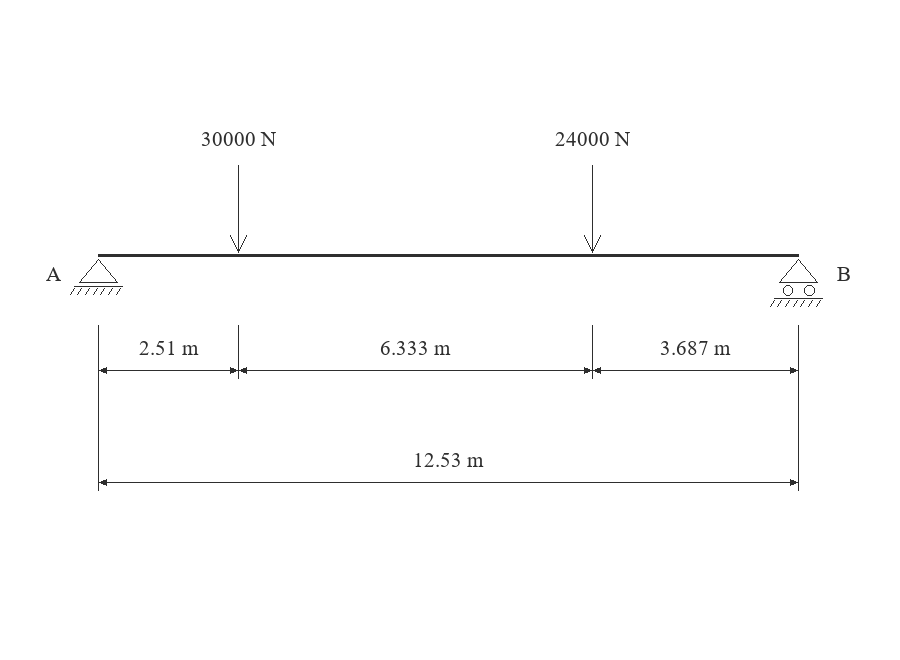pin_support: (70, 259, 123, 295)
point_load: (230, 165, 247, 253), (584, 165, 601, 253)
roller_support: (770, 259, 823, 307)
